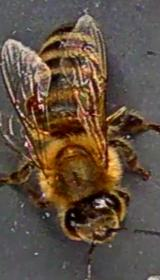varroa_mite: (24, 91, 47, 115)
